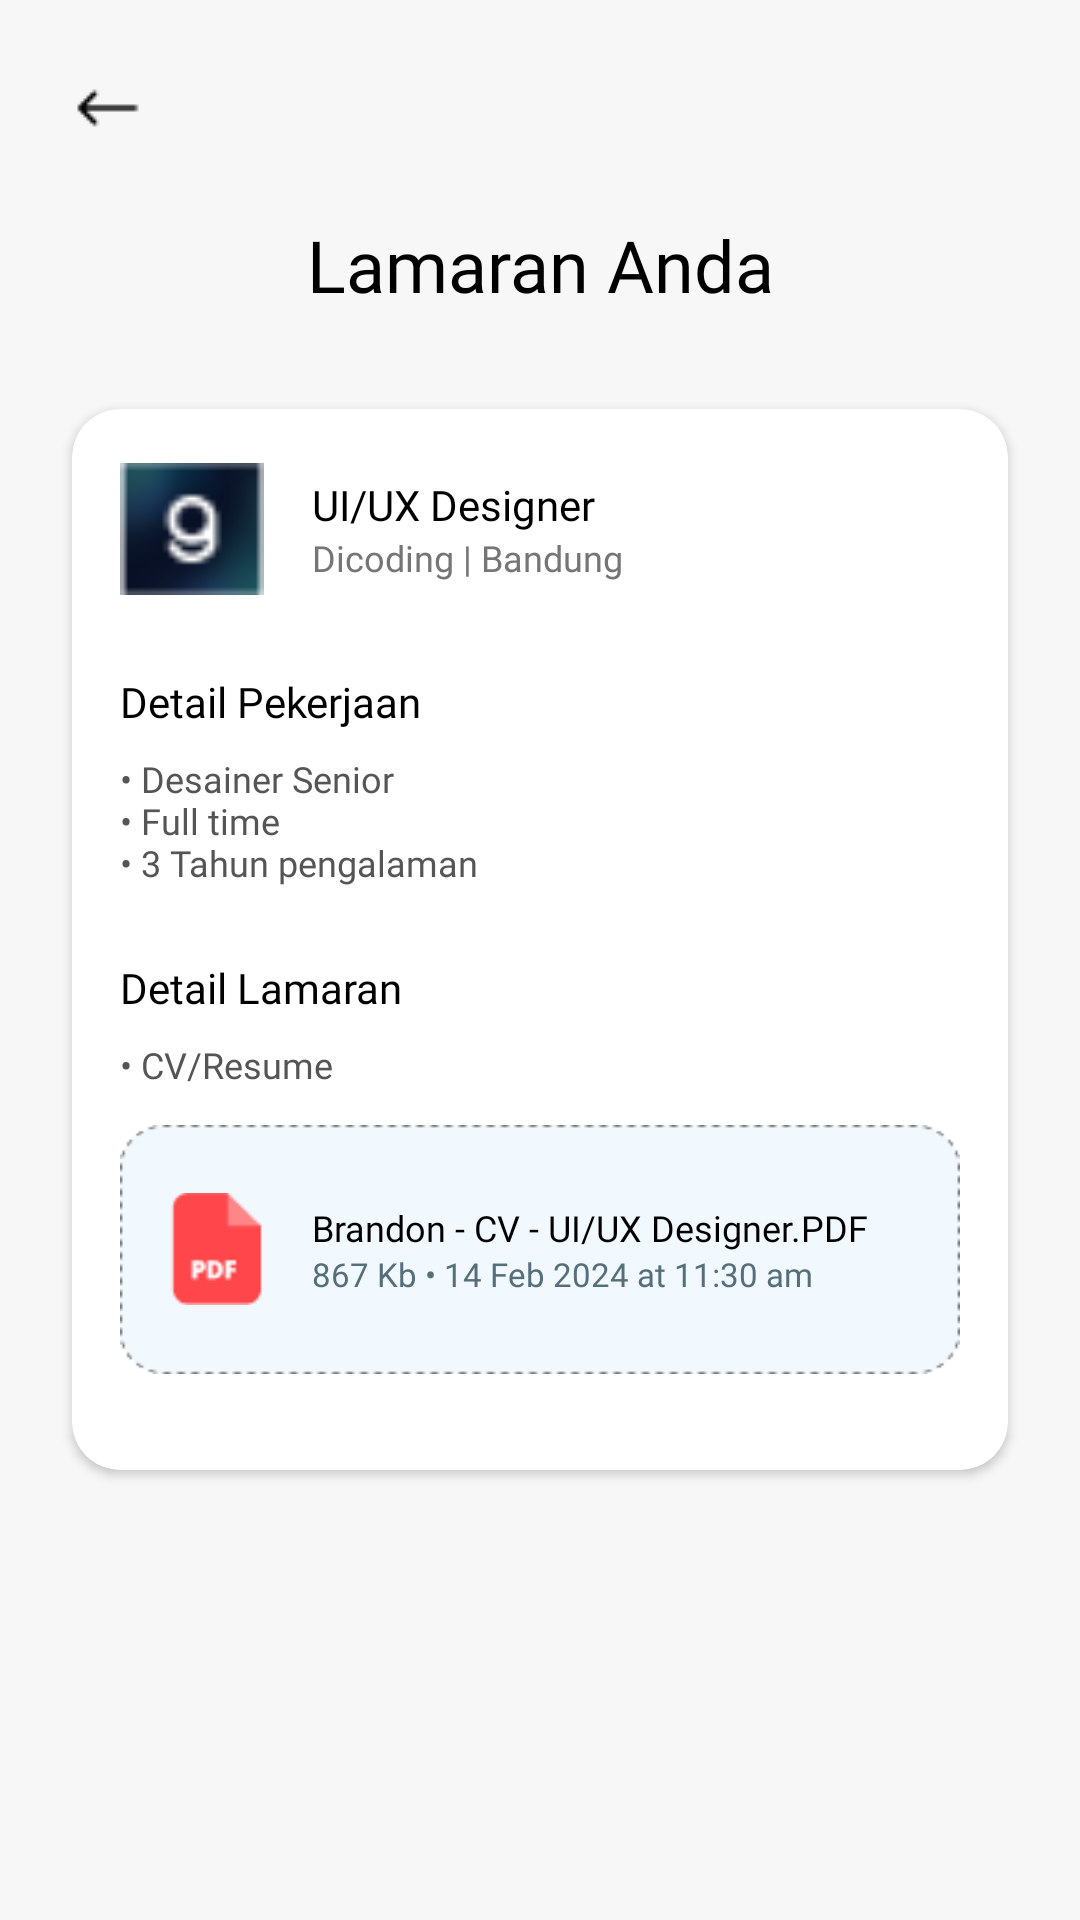

Locate icon controls on the screen. Image size 1080px x 1920px, boxes as bbox=(x1, y1, x2, y2).
back: bbox=(77, 89, 139, 127)
